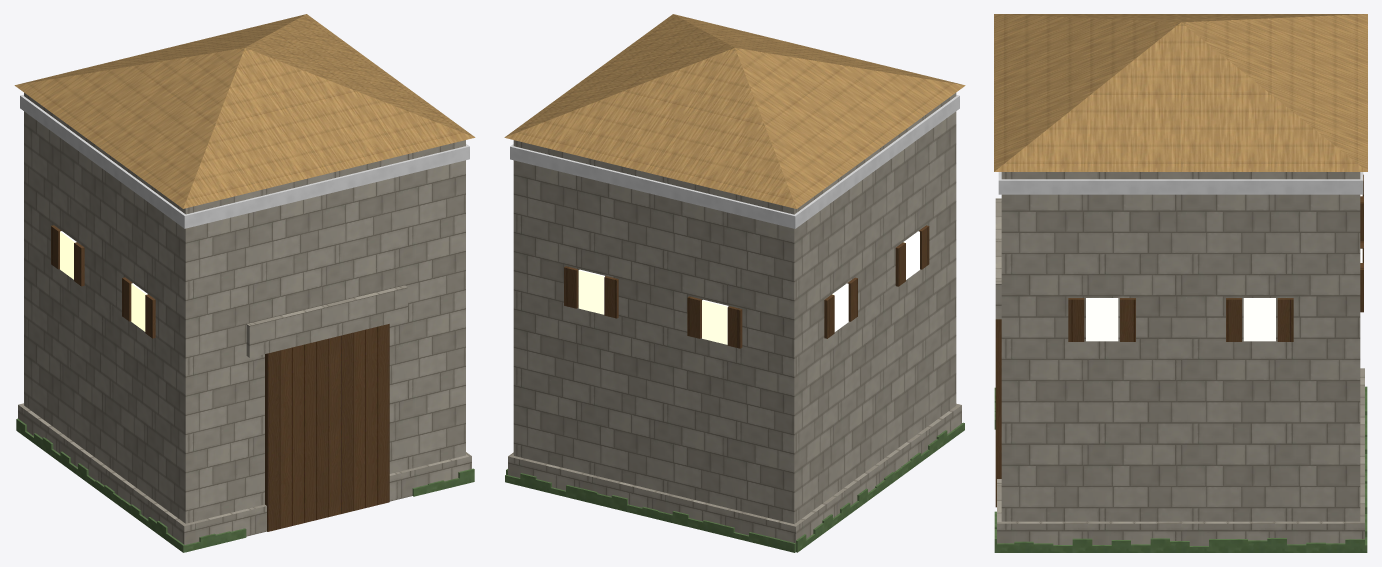
File: keep.t1.glb
The picture shows the model from 3 angles, left to right: view 1: azimuth 30°, elevation 25°; view 2: azimuth 150°, elevation 25°; view 3: azimuth 270°, elevation 25°; orthographic projection. The views are drawn at different scales.
Parts seen in each view (by area): view 1: castle.keep.t1; view 2: castle.keep.t1; view 3: castle.keep.t1.
Boxes of the visible parts, box(x1,y1,x2,y2) form: castle.keep.t1: box(14, 14, 475, 552); castle.keep.t1: box(504, 14, 965, 552); castle.keep.t1: box(994, 14, 1367, 552).
Bounding box in the file's own units: 4.8 × 6.4 × 4.8.
Materials: 6 (5 with a texture image).
